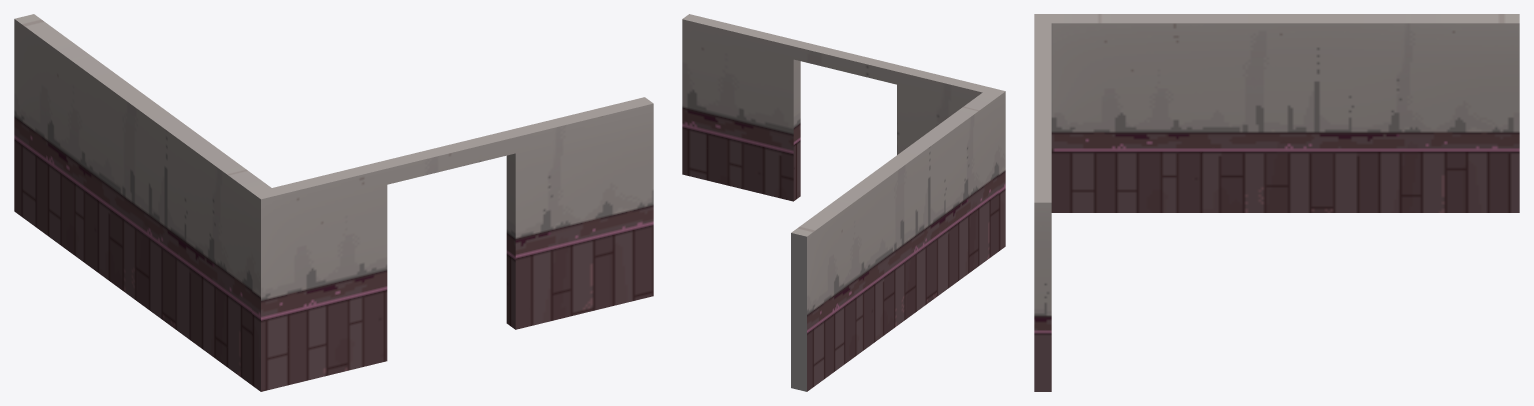
The model's file is ParedeQuina.fbx.
3 renders of one model, left to right at view 1: azimuth 30°, elevation 25°; view 2: azimuth 150°, elevation 25°; view 3: azimuth 270°, elevation 25°, orthographic. The views are drawn at different scales.
Parts seen in each view (by area): view 1: ParedeQuina; view 2: ParedeQuina; view 3: ParedeQuina.
Part boxes in pixels (left/top/right/bottom): ParedeQuina: left=14, top=14, right=653, bottom=391; ParedeQuina: left=682, top=14, right=1005, bottom=391; ParedeQuina: left=1034, top=14, right=1519, bottom=391.
Size of the model in its own units: 451 by 490 by 211.
